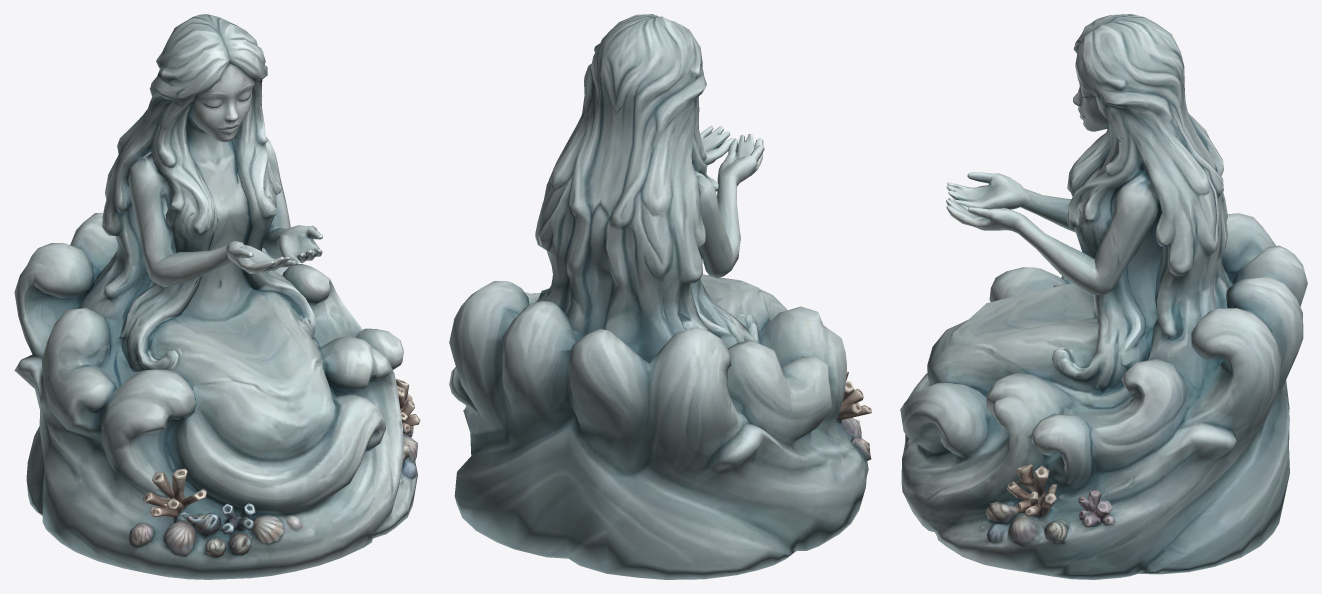
The model's file is tidemother.glb.
The picture shows the model from 3 angles, left to right: view 1: azimuth 30°, elevation 25°; view 2: azimuth 150°, elevation 25°; view 3: azimuth 270°, elevation 25°; orthographic projection. The views are drawn at different scales.
Bounding box in the file's own units: 0.7674 × 1 × 0.771.
1 material, 1 textured.
